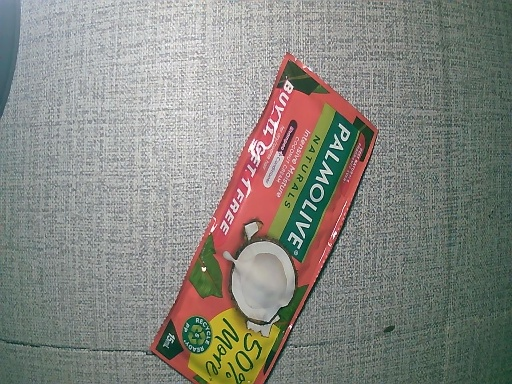plastic: (145, 52, 379, 384)
